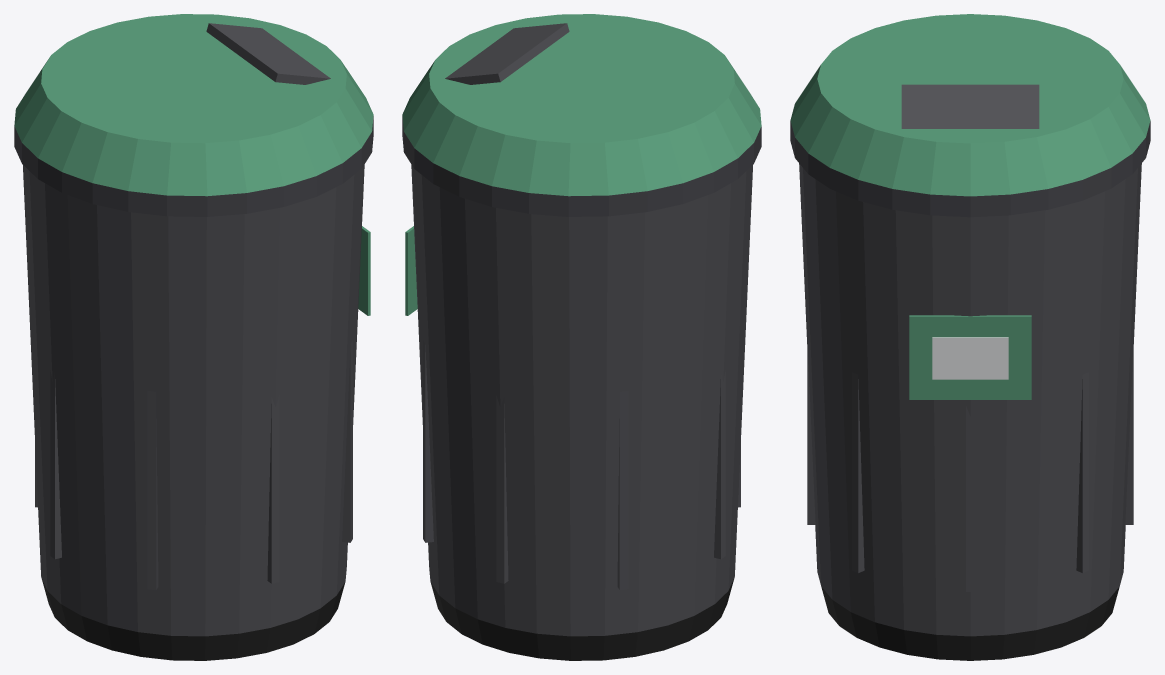
Rendered from SM_Prop_TrashBin.fbx.
3 renders of one model, left to right at view 1: azimuth 30°, elevation 25°; view 2: azimuth 150°, elevation 25°; view 3: azimuth 270°, elevation 25°, orthographic.
Parts seen in each view (by area): view 1: SM_Prop_TrashBin; view 2: SM_Prop_TrashBin; view 3: SM_Prop_TrashBin.
Boxes of the visible parts, x1=… form: SM_Prop_TrashBin: x1=14, y1=14, x2=373, y2=660; SM_Prop_TrashBin: x1=402, y1=14, x2=761, y2=660; SM_Prop_TrashBin: x1=790, y1=14, x2=1150, y2=660.
Size of the model in its own units: 0.47 by 0.47 by 0.7762.
